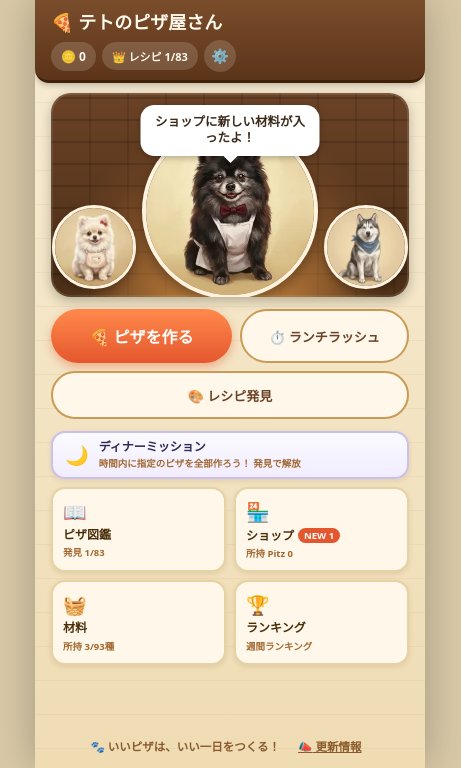
I4b-4 Shop through the real App: NEW -> first pack -> OWNED, persisted › the progress hint counts toward the next step without naming it
Click the button "🏪 ショップ NEW 1 所持 Pitz 0" at coordinates (322, 530), box top-left (234, 487), bottom-right (409, 572)
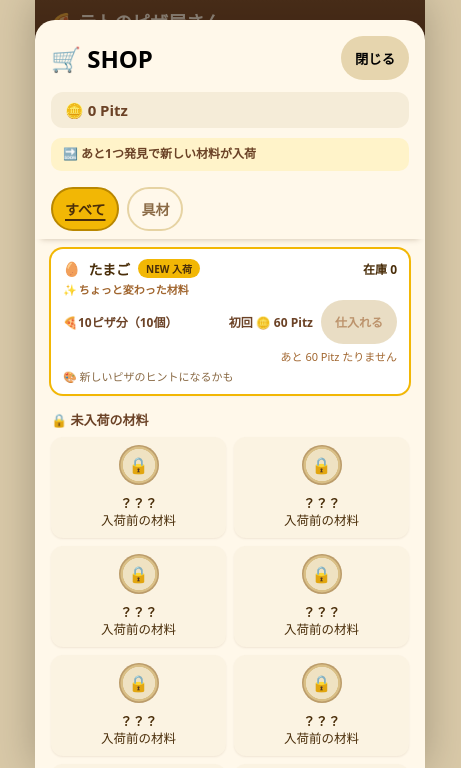
expect the text "🔜 あと1つ発見で新しい材料が入荷" is shown: met, box top-left (51, 138), bottom-right (409, 171)
